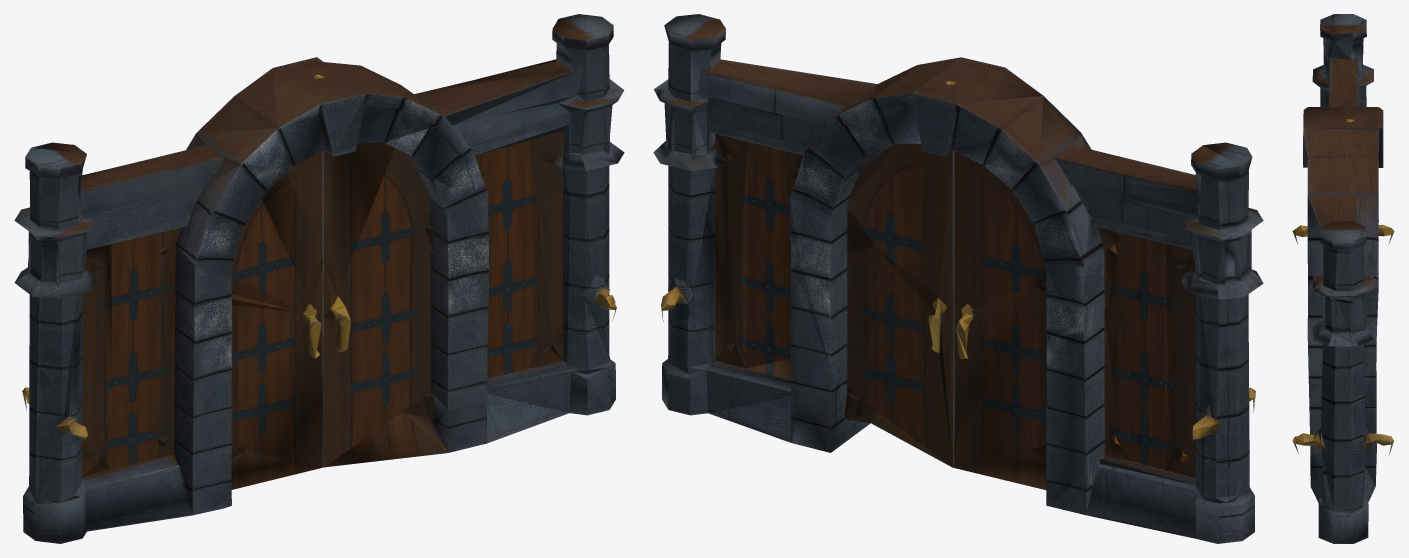
File: ENV_Entrance.fbx
3 views of the same model, side by side, from view 1: azimuth 30°, elevation 25°; view 2: azimuth 150°, elevation 25°; view 3: azimuth 270°, elevation 25° (orthographic). The views are drawn at different scales.
Parts seen in each view (by area): view 1: Mesh_0; view 2: Mesh_0; view 3: Mesh_0.
Boxes of the visible parts, bbox=[...] form: Mesh_0: bbox=[14, 14, 624, 543]; Mesh_0: bbox=[653, 14, 1263, 543]; Mesh_0: bbox=[1292, 14, 1394, 543].
Bounding box in the file's own units: 190 × 118 × 35.11.
1 material, 1 textured.
